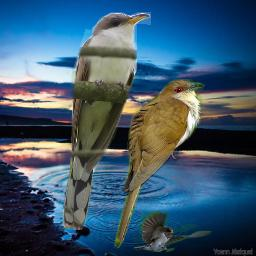Cuckoo: (63, 12, 151, 230), (113, 79, 205, 249)
Swallow: (134, 211, 212, 252)
